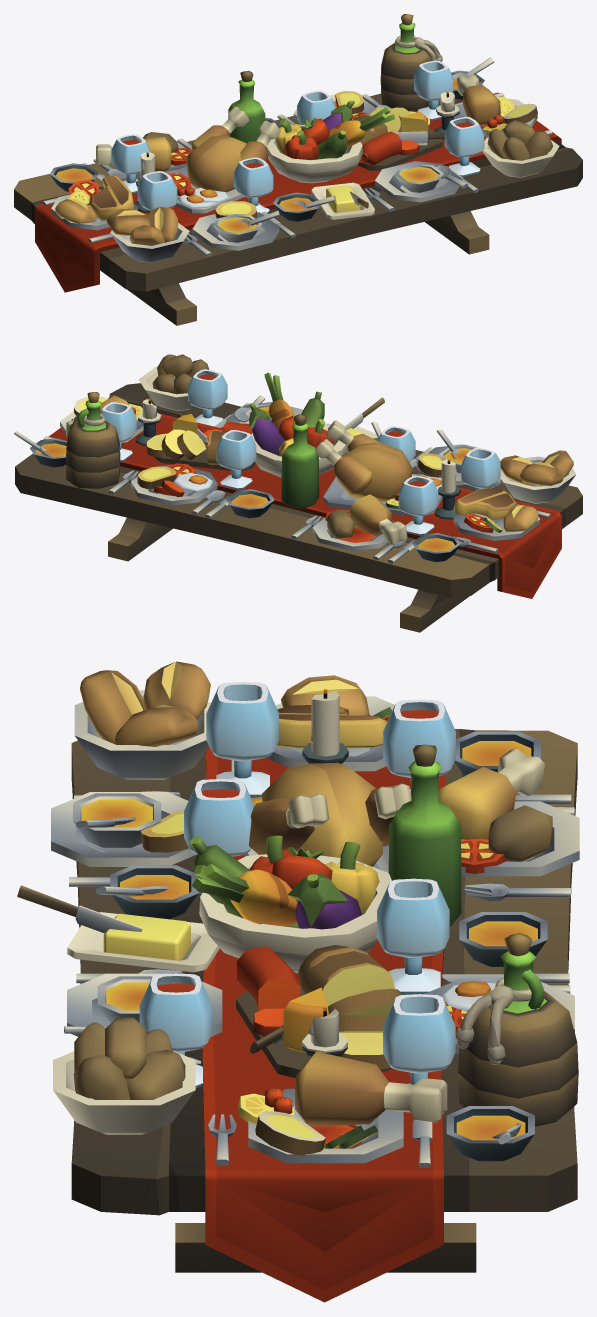
Rendered from table_laden_with_food.fbx.
3 views of the same model, one above another, from view 1: azimuth 30°, elevation 25°; view 2: azimuth 150°, elevation 25°; view 3: azimuth 270°, elevation 25° (orthographic). The views are drawn at different scales.
Visible parts, largest first — view 1: table_laden_with_food; view 2: table_laden_with_food; view 3: table_laden_with_food.
Boxes of the visible parts, x1,y1,x2,y2 form: table_laden_with_food: (14,14,582,325); table_laden_with_food: (14,354,582,632); table_laden_with_food: (17,661,579,1302).
Size of the model in its own units: 366 by 129 by 187.
